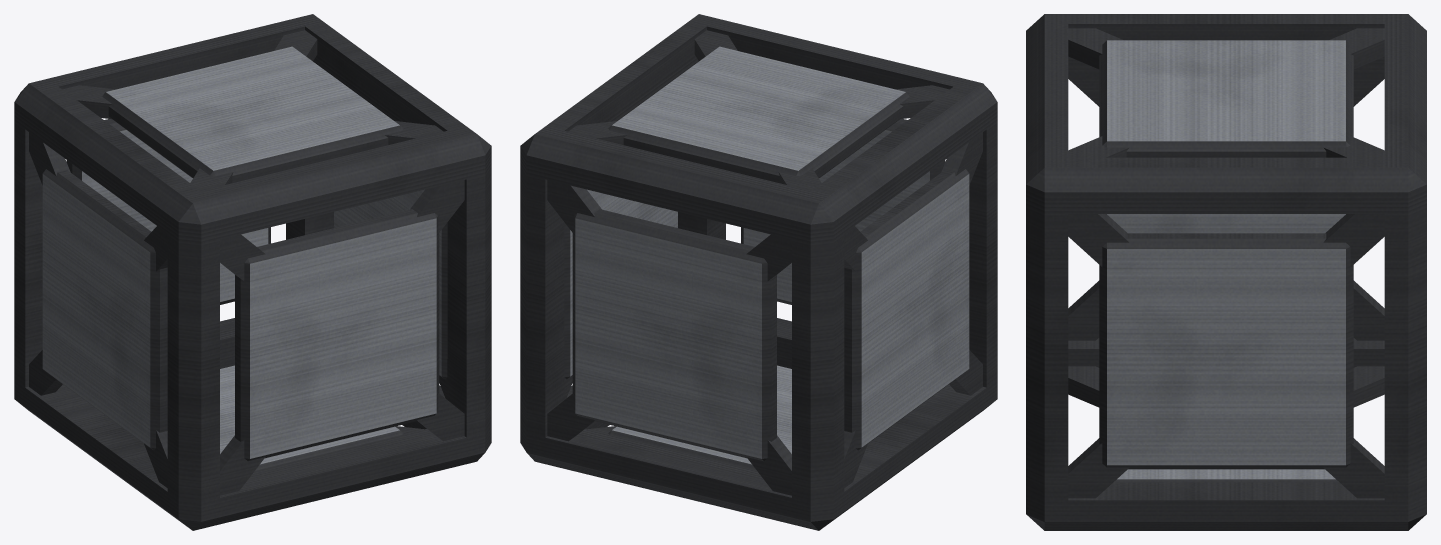
The model's file is R4B_TrussCube_LOD1.glb.
3 views of the same model, side by side, from view 1: azimuth 30°, elevation 25°; view 2: azimuth 150°, elevation 25°; view 3: azimuth 270°, elevation 25° (orthographic). The views are drawn at different scales.
Visible parts, largest first — view 1: R4B_TrussCube_LOD1; view 2: R4B_TrussCube_LOD1; view 3: R4B_TrussCube_LOD1.
Boxes of the visible parts, x1,y1,x2,y2 form: R4B_TrussCube_LOD1: (14, 14, 491, 530); R4B_TrussCube_LOD1: (520, 14, 997, 530); R4B_TrussCube_LOD1: (1026, 14, 1426, 530).
Bounding box in the file's own units: 0.52 × 0.52 × 0.52.
Materials: 2 (2 with a texture image).
